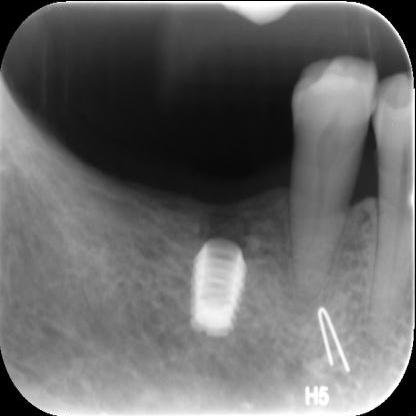Bicon: (190, 234, 250, 340)
